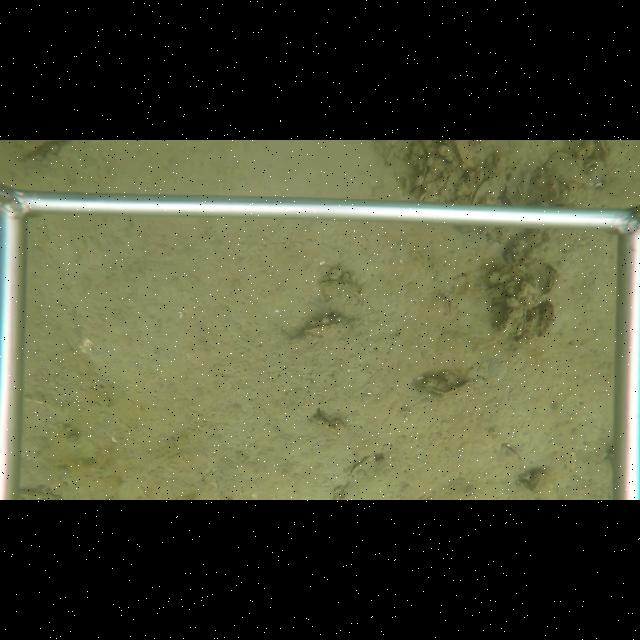Oyster-Closed: (414, 377, 481, 402), (318, 280, 365, 305), (513, 304, 528, 342)
Oyster-Open: (469, 178, 496, 203)
